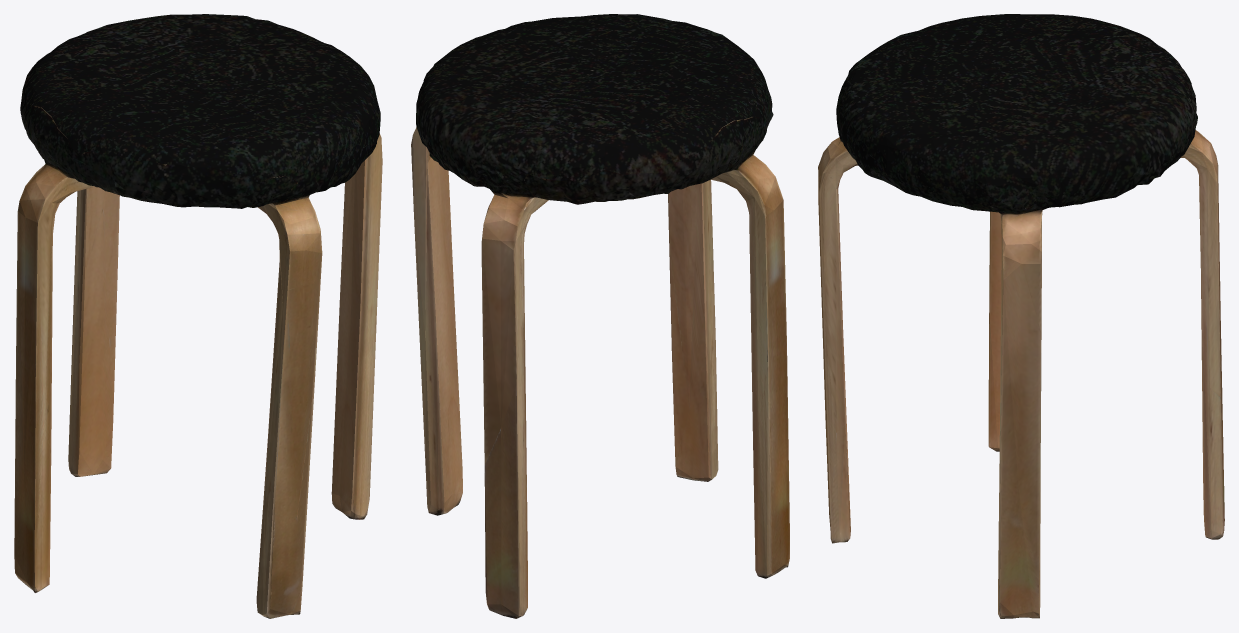
The picture shows the model from 3 angles, left to right: view 1: azimuth 30°, elevation 25°; view 2: azimuth 150°, elevation 25°; view 3: azimuth 270°, elevation 25°; orthographic projection.
Parts seen in each view (by area): view 1: Ring Hocker_4k_512; view 2: Ring Hocker_4k_512; view 3: Ring Hocker_4k_512.
Boxes of the visible parts, box(x1,y1,x2,y2) form: Ring Hocker_4k_512: box(14, 14, 382, 618); Ring Hocker_4k_512: box(411, 14, 789, 618); Ring Hocker_4k_512: box(818, 14, 1224, 618).
Bounding box in the file's own units: 0.3945 × 0.5044 × 0.3941.
Materials: 1 (1 with a texture image).
